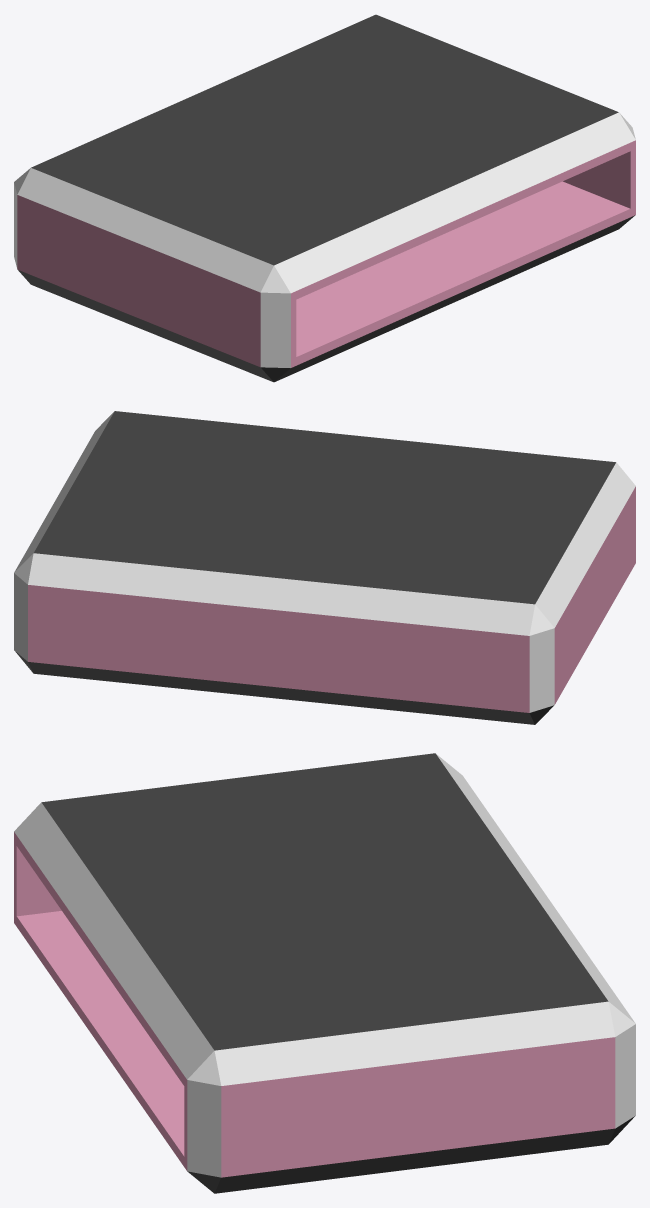
Rendered from Spider Island Level 1 Sideways Box.fbx.
The picture shows the model from 3 angles, top to bottom: view 1: azimuth 30°, elevation 25°; view 2: azimuth 150°, elevation 25°; view 3: azimuth 270°, elevation 25°; orthographic projection. The views are drawn at different scales.
Parts seen in each view (by area): view 1: Cube; view 2: Cube; view 3: Cube.
Boxes of the visible parts, x1,y1,x2,y2 form: Cube: (14,14,635,382); Cube: (14,411,635,724); Cube: (14,753,635,1193).
Bounding box in the file's own units: 6.32 × 1.33 × 5.24.
